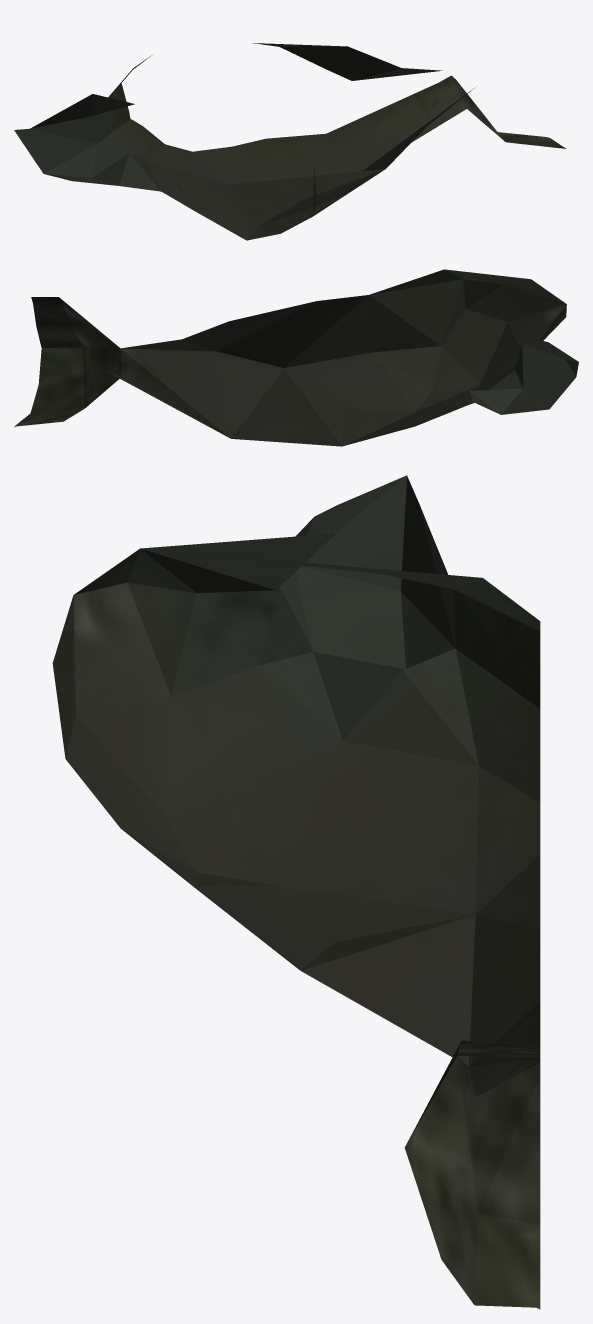
The picture shows the model from 3 angles, top to bottom: view 1: azimuth 30°, elevation 25°; view 2: azimuth 150°, elevation 25°; view 3: azimuth 270°, elevation 25°; orthographic projection. The views are drawn at different scales.
Size of the model in its own units: 2.7 by 0.873 by 1.08.
1 material, 1 textured.
